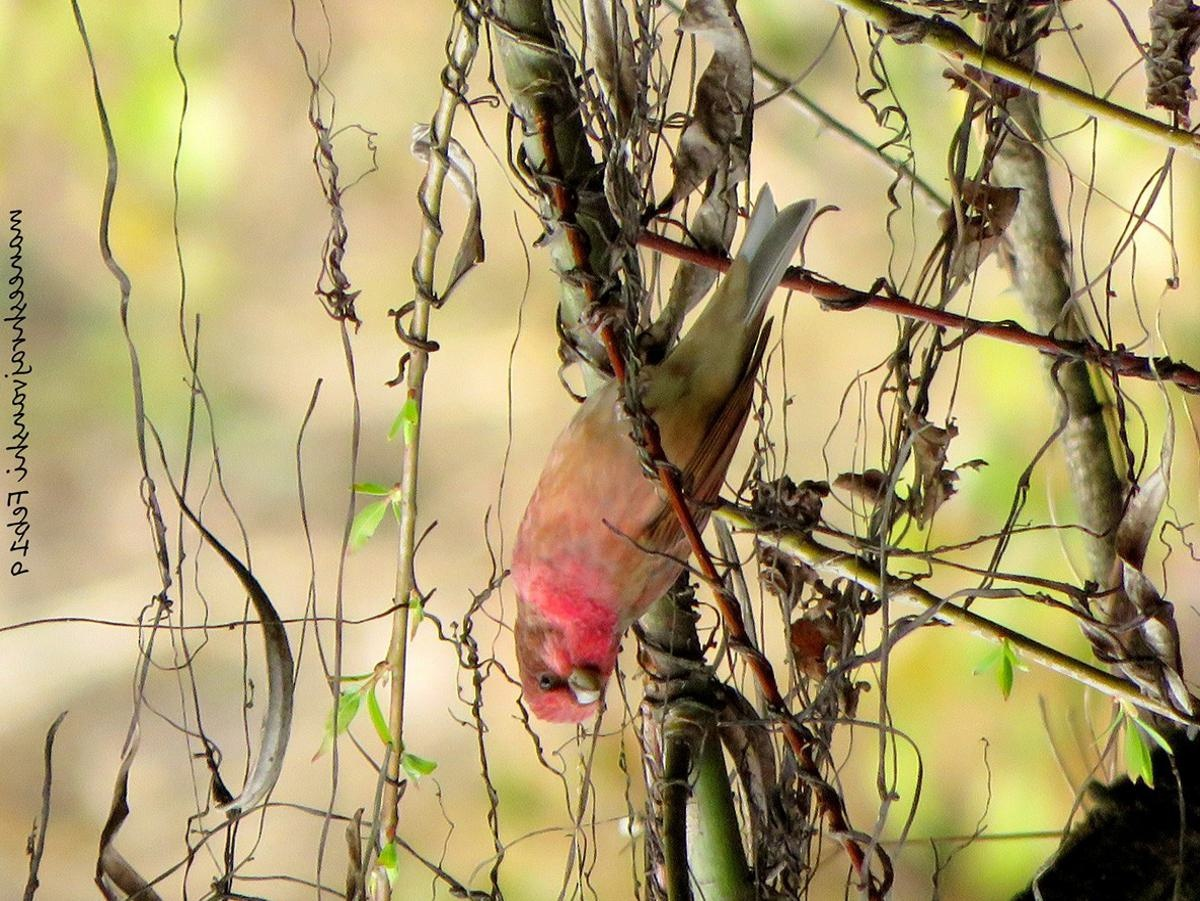rosefinch: (518, 205, 800, 728)
